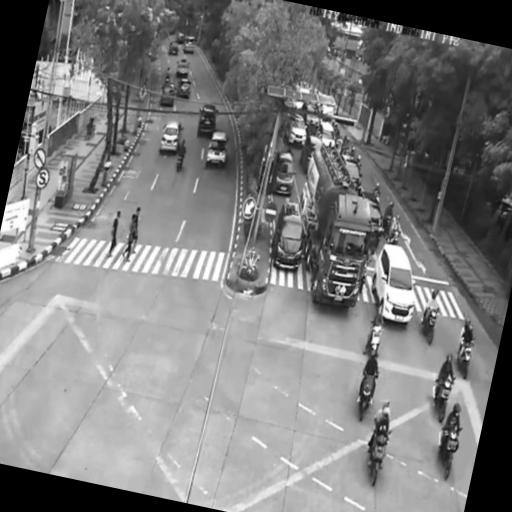car: (372, 244, 415, 323), (272, 202, 305, 269), (361, 189, 383, 252), (271, 151, 295, 195), (300, 136, 321, 173), (206, 131, 228, 166), (343, 155, 361, 190), (160, 122, 181, 152), (197, 104, 217, 135), (288, 115, 306, 145), (316, 94, 336, 116), (160, 82, 176, 107), (320, 122, 335, 147), (176, 78, 191, 98), (176, 58, 190, 77), (183, 37, 195, 54), (169, 42, 179, 55), (176, 33, 185, 43)
motorcycle: (438, 425, 461, 480), (370, 430, 388, 486), (432, 378, 454, 421), (358, 374, 375, 421), (364, 324, 382, 357), (457, 342, 473, 379), (422, 308, 438, 344), (383, 215, 393, 238), (387, 228, 400, 244), (176, 155, 183, 171), (165, 75, 170, 83)
truck: (300, 146, 372, 308)
